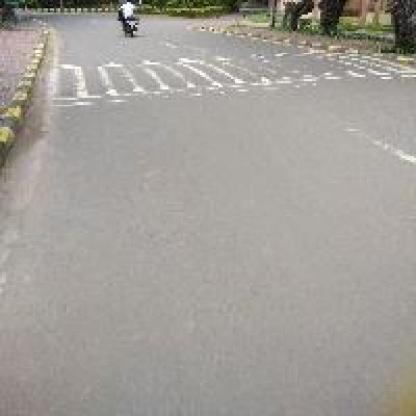Speed Bump: (58, 46, 412, 108)
